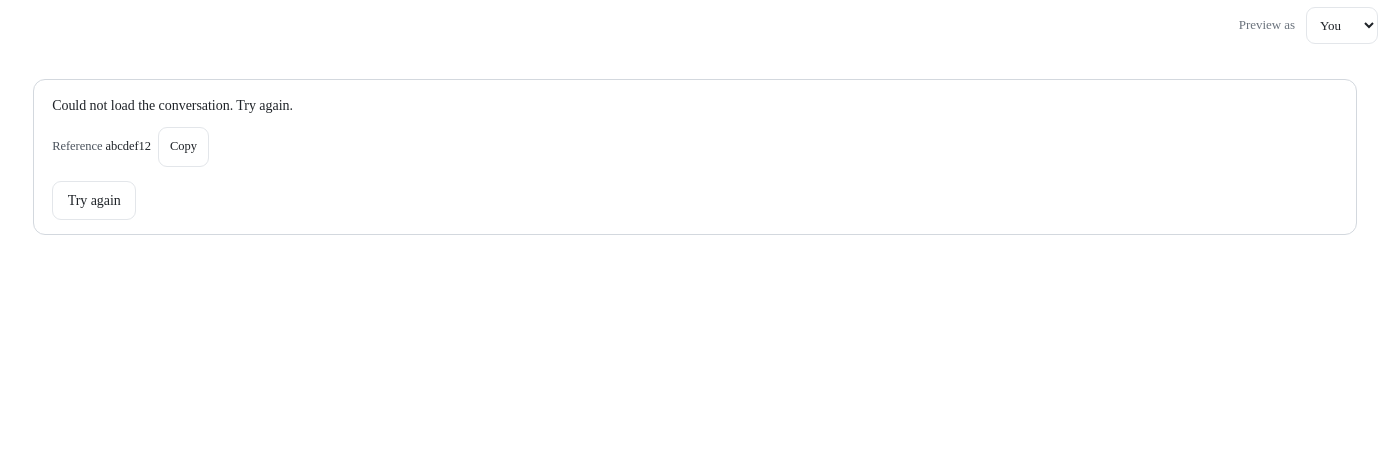
Test: HiveConversation › shows a load error with Try again only when retryable
Check: the message reads "Could not load the conversation. Try again.", box [52, 98, 293, 112]
Check: the text "abcdef12" is shown, box [106, 139, 151, 153]
Step 1. Click the button "Try again" → (94, 200), box [52, 181, 136, 220]
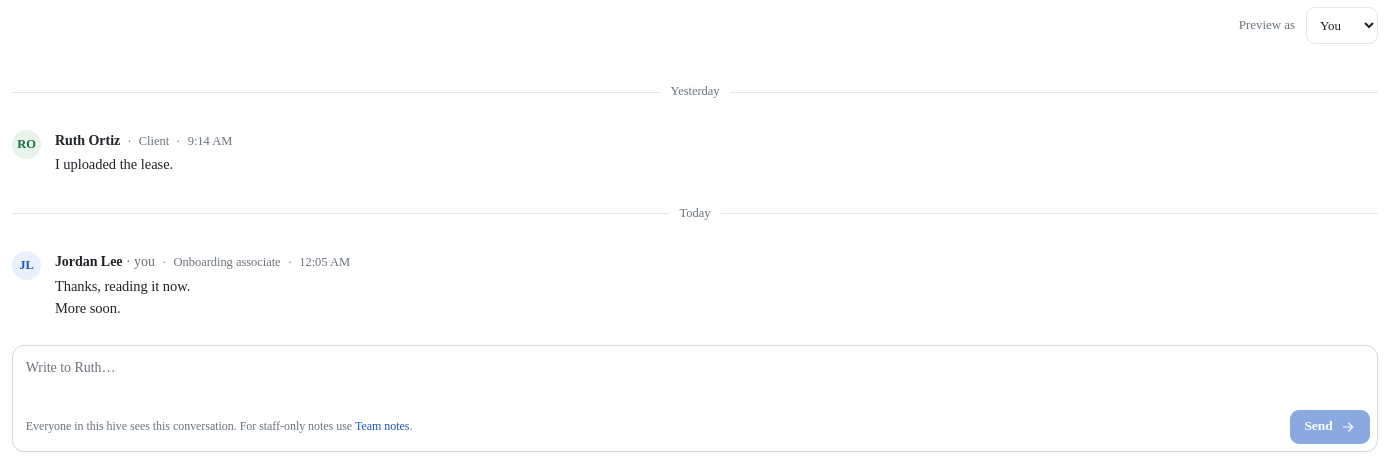
Check: the number of elements with test id "hive-message" is 2, box [12, 130, 232, 172]; [12, 251, 350, 316]
